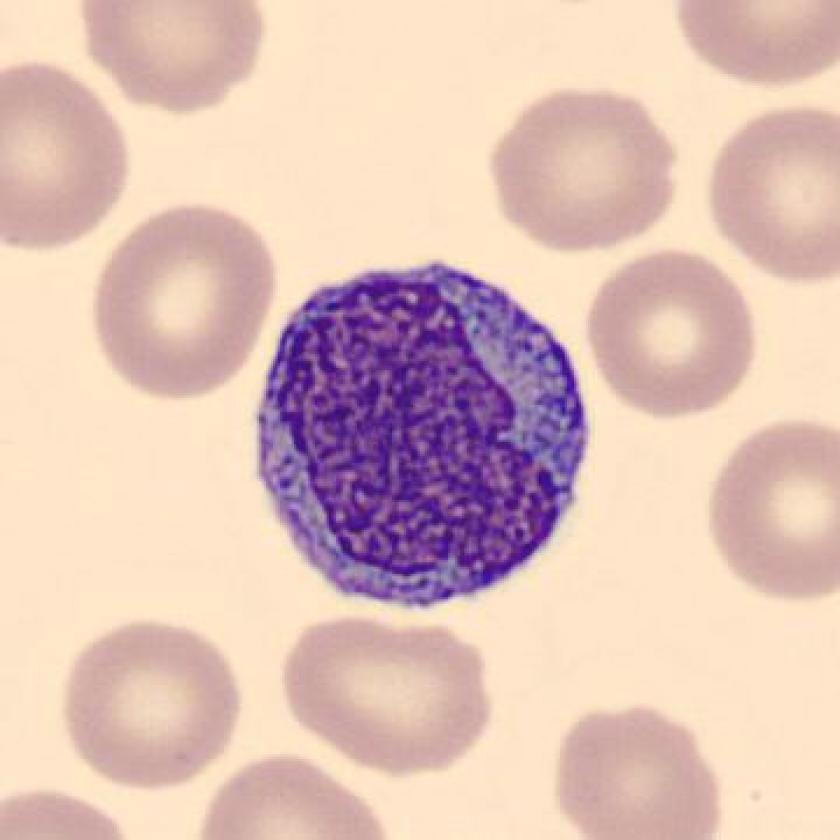monocyte: (234, 242, 601, 621)
